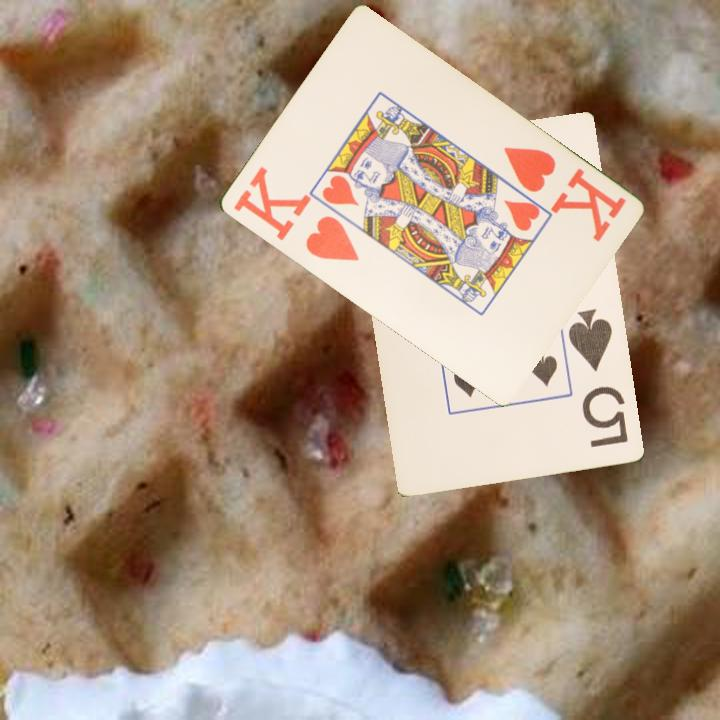5s: (565, 305, 631, 451)
Kh: (229, 163, 362, 265), (499, 143, 628, 245)
